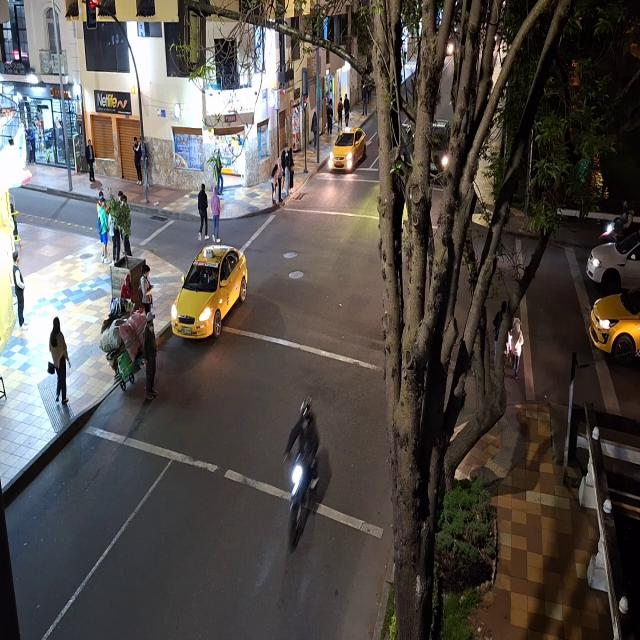MOTORCYCLE: (286, 456, 308, 550)
SED: (175, 248, 240, 338), (587, 285, 638, 354), (584, 228, 638, 286), (332, 129, 363, 170)
